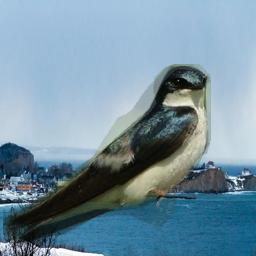Swallow: (3, 64, 211, 248)
